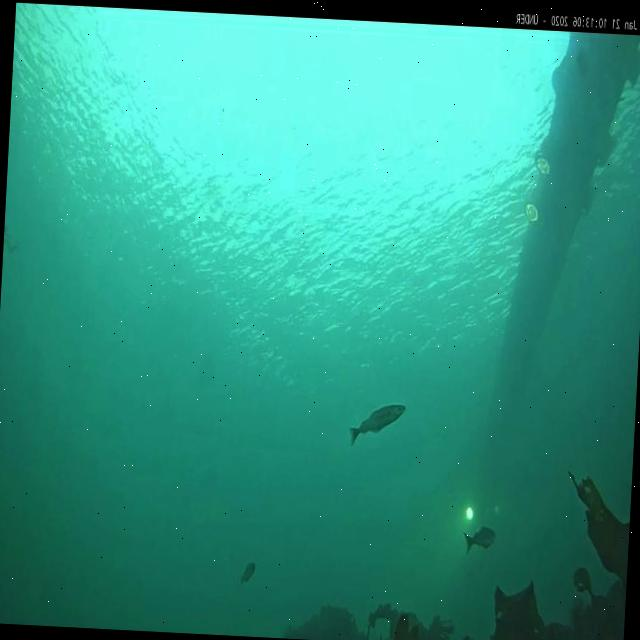fish: (347, 401, 406, 449), (462, 525, 497, 555), (240, 562, 256, 586)
